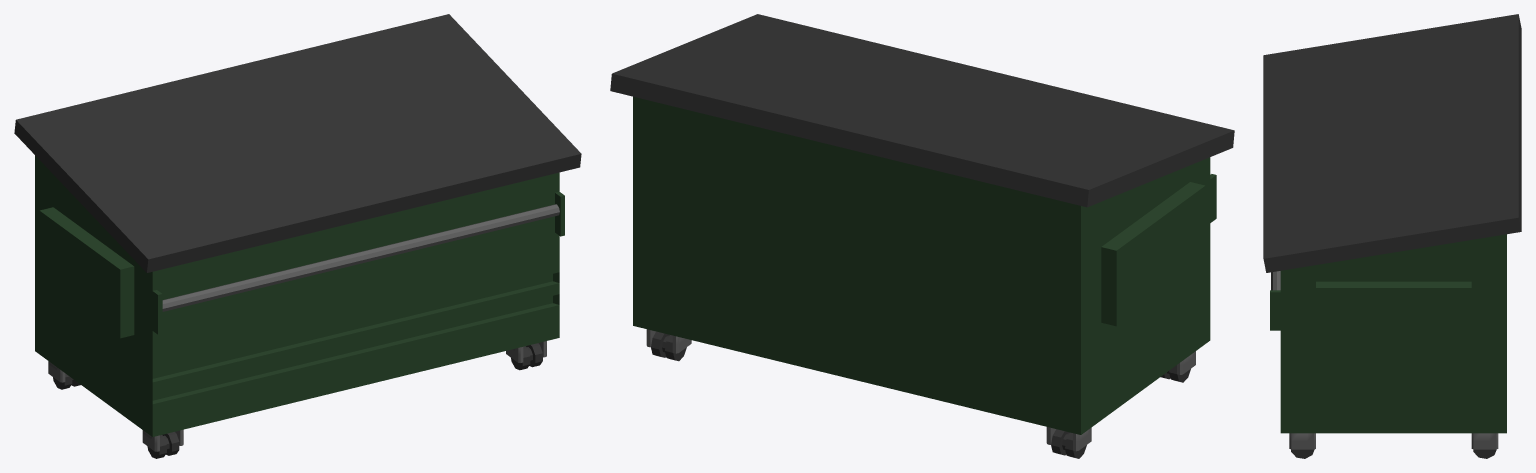
File: TrashContainer.fbx
The picture shows the model from 3 angles, left to right: view 1: azimuth 30°, elevation 25°; view 2: azimuth 150°, elevation 25°; view 3: azimuth 270°, elevation 25°; orthographic projection. The views are drawn at different scales.
Parts seen in each view (by area): view 1: pCube1, pCube2, pCylinder4; view 2: pCube1, pCube2; view 3: pCube1, pCube3, pCube4 (×2).
Part boxes in pixels (x1,y1,x2,y2): pCube1: [14, 14, 581, 436]; pCube2: [39, 207, 134, 338]; pCylinder4: [162, 204, 559, 311]; pCube1: [610, 14, 1234, 434]; pCube2: [1101, 182, 1205, 326]; pCube1: [1263, 14, 1521, 433]; pCube3: [1316, 281, 1471, 354]; pCube4 (×2): [1289, 433, 1498, 449].
Bounding box in the file's own units: 6.62 × 3.82 × 3.53.
